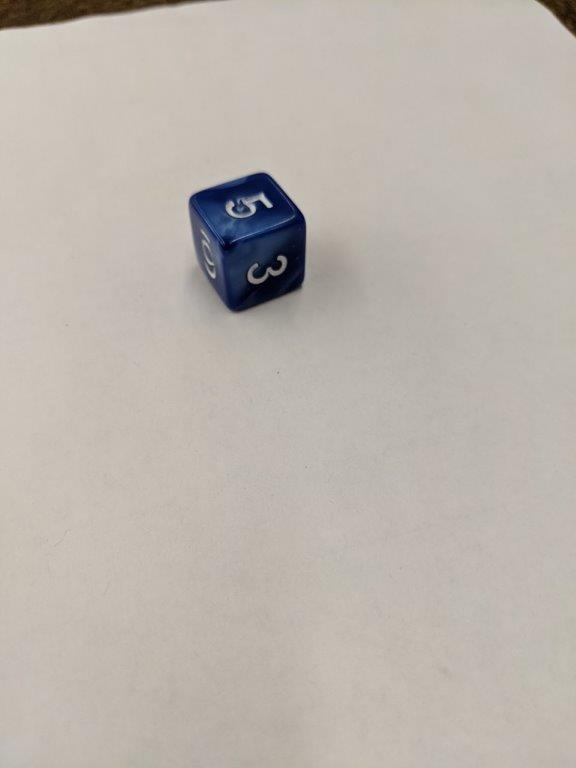d6-5: (188, 175, 308, 312)
